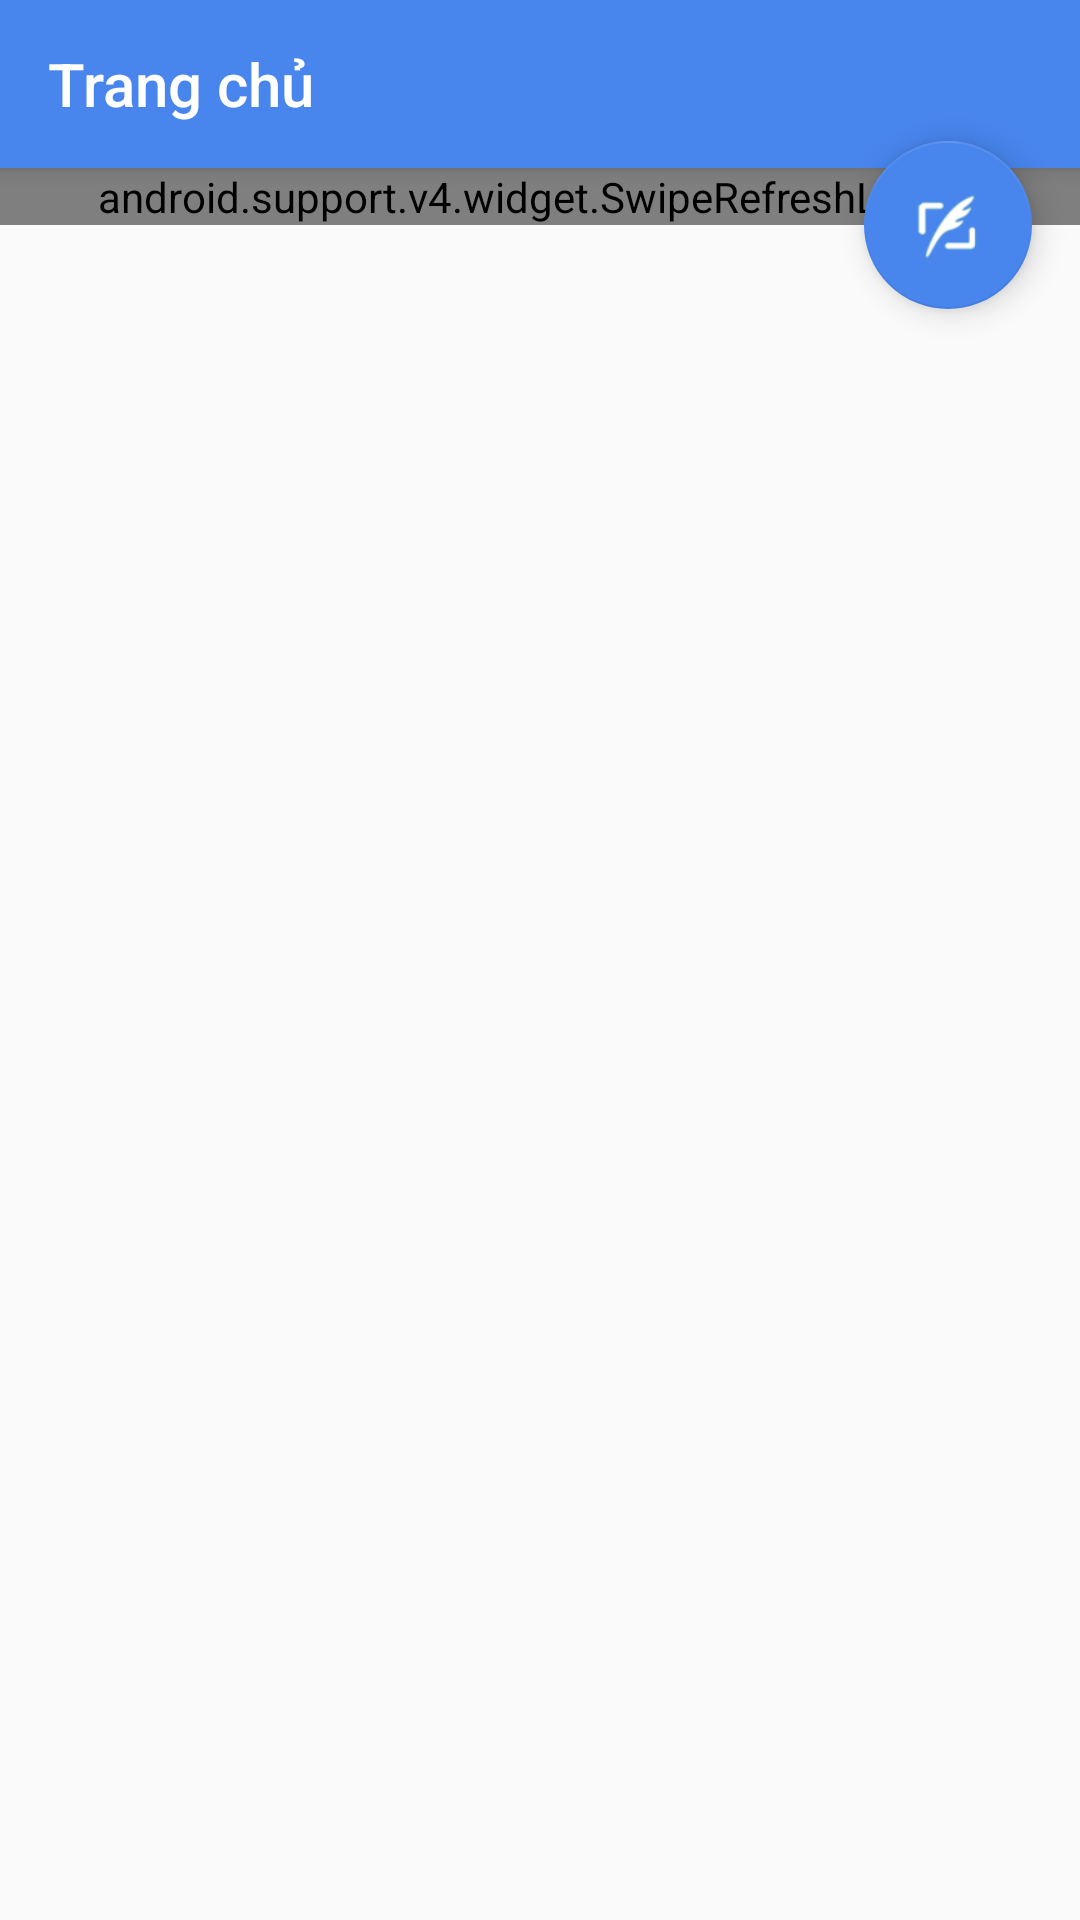

Icons on this 1080px×1920px Android screen, each with the point to tap as (x,y):
compose: (948,225)
